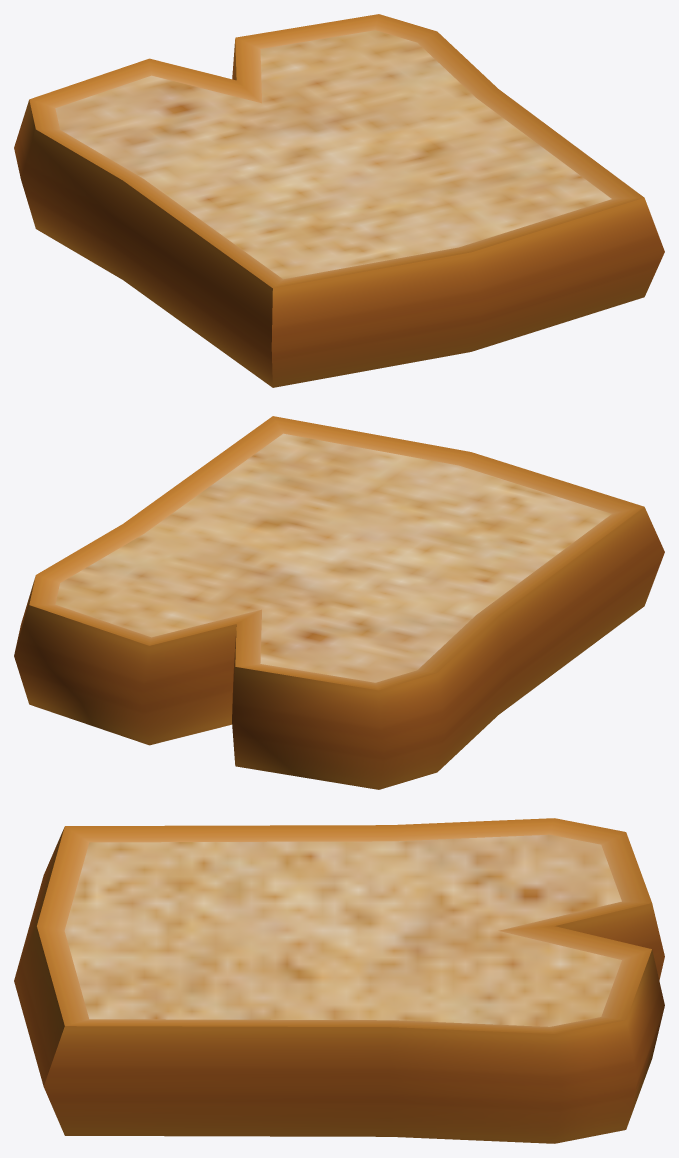
Rendered from Toast.fbx.
3 renders of one model, top to bottom at view 1: azimuth 30°, elevation 25°; view 2: azimuth 150°, elevation 25°; view 3: azimuth 270°, elevation 25°, orthographic. The views are drawn at different scales.
Visible parts, largest first — view 1: Toast; view 2: Toast; view 3: Toast.
Part boxes in pixels (x1,y1,x2,y2): Toast: (14,14,664,387); Toast: (14,416,664,789); Toast: (14,818,664,1143).
Bounding box in the file's own units: 8.78 × 10.57 × 1.97.
